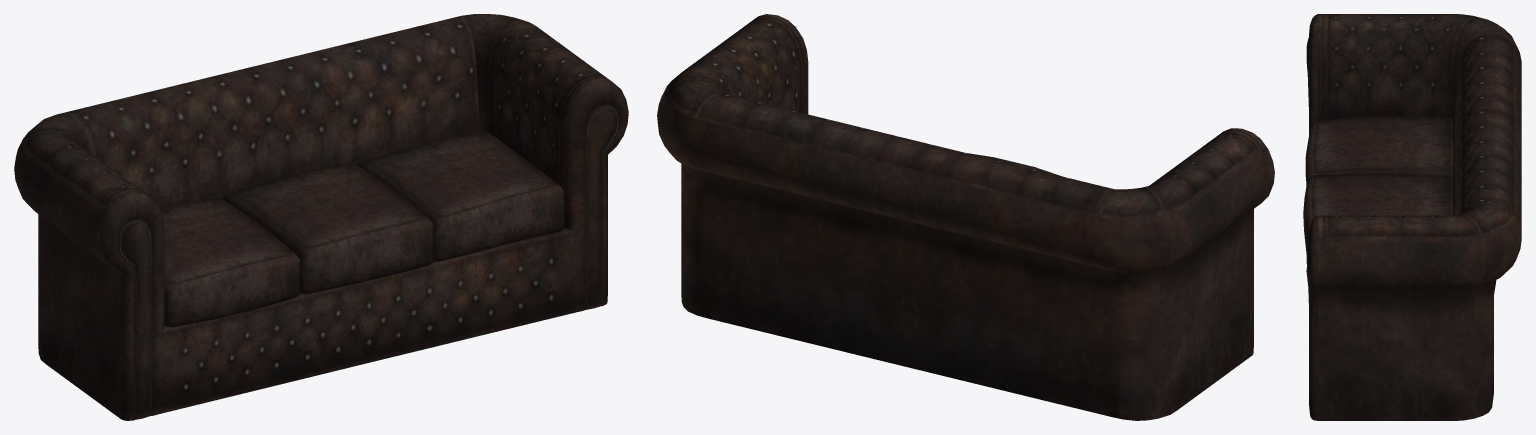
The model's file is sofa-chesterfield.glb.
The picture shows the model from 3 angles, left to right: view 1: azimuth 30°, elevation 25°; view 2: azimuth 150°, elevation 25°; view 3: azimuth 270°, elevation 25°; orthographic projection. The views are drawn at different scales.
Visible parts, largest first — view 1: Object_2; view 2: Object_2; view 3: Object_2.
Boxes of the visible parts, x1,y1,x2,y2 form: Object_2: [14, 14, 628, 420]; Object_2: [657, 14, 1274, 420]; Object_2: [1303, 14, 1521, 420].
Size of the model in its own units: 497 by 200 by 200.
Materials: 1 (1 with a texture image).
